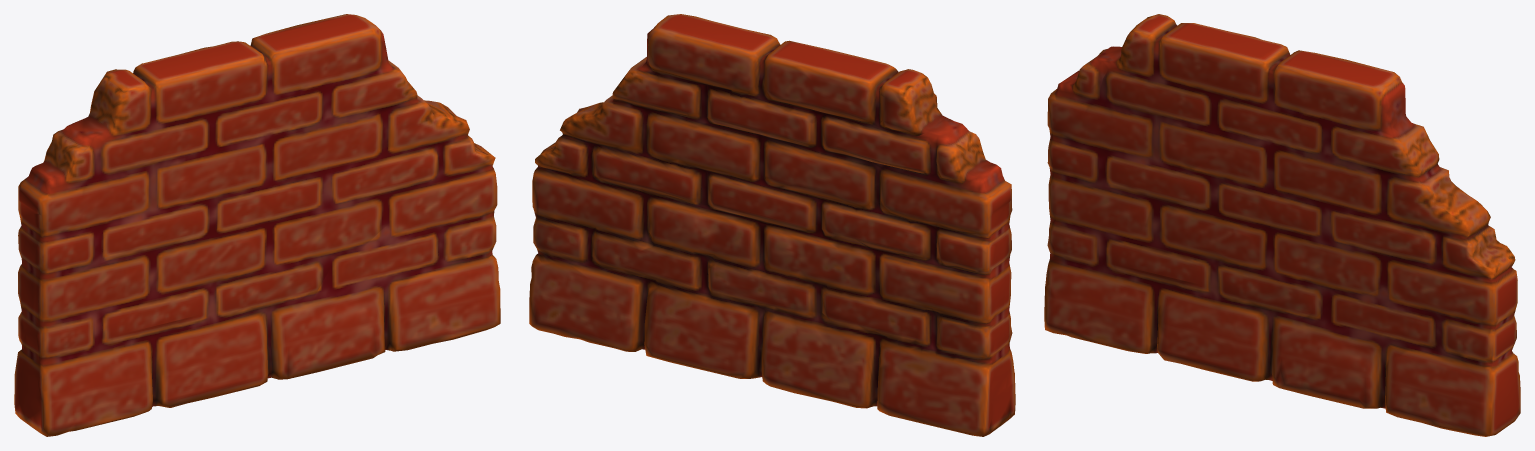
Rendered from WallSeg1.fbx.
3 renders of one model, left to right at view 1: azimuth 30°, elevation 25°; view 2: azimuth 150°, elevation 25°; view 3: azimuth 330°, elevation 25°, orthographic. The views are drawn at different scales.
Visible parts, largest first — view 1: WallSeg1_Lo; view 2: WallSeg1_Lo; view 3: WallSeg1_Lo.
Part boxes in pixels (x1=…): WallSeg1_Lo: x1=14, y1=14, x2=500, y2=436; WallSeg1_Lo: x1=529, y1=14, x2=1015, y2=436; WallSeg1_Lo: x1=1044, y1=14, x2=1520, y2=436.
Bounding box in the file's own units: 1109 × 754 × 143.
